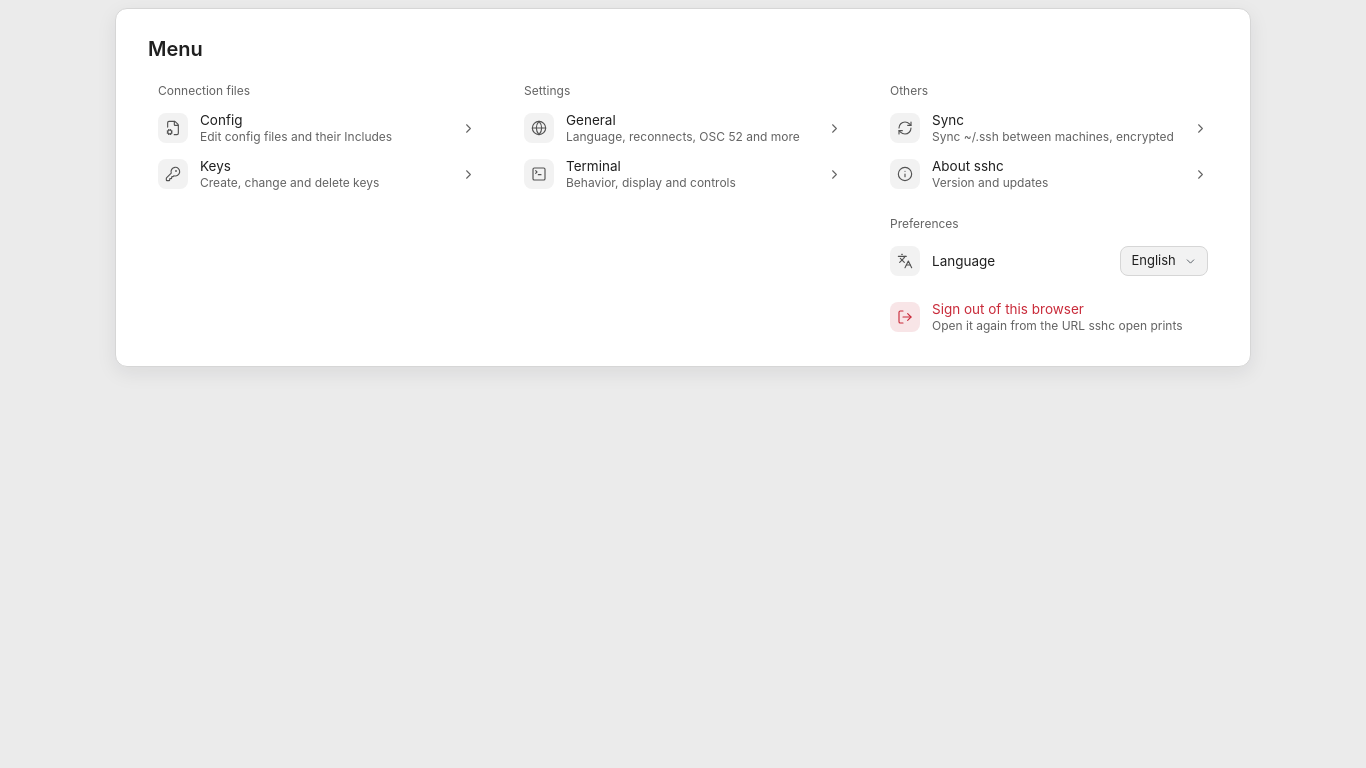
MenuPanel › shows why signing out failed and stays on the page
Click the button "Sign out of this browser" at (1049, 317), box [880,294,1218,340]
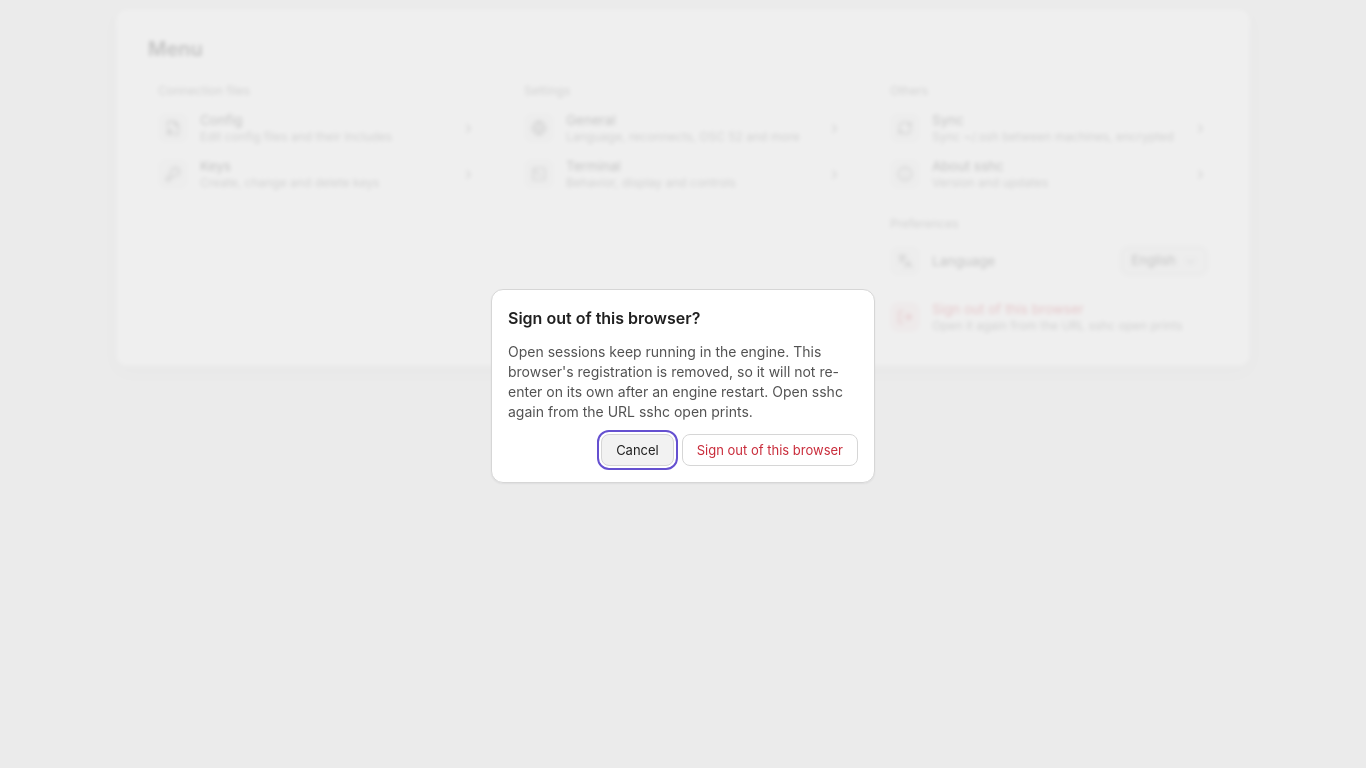
Click the button "Sign out of this browser" at (770, 450), box [682,434,858,466]
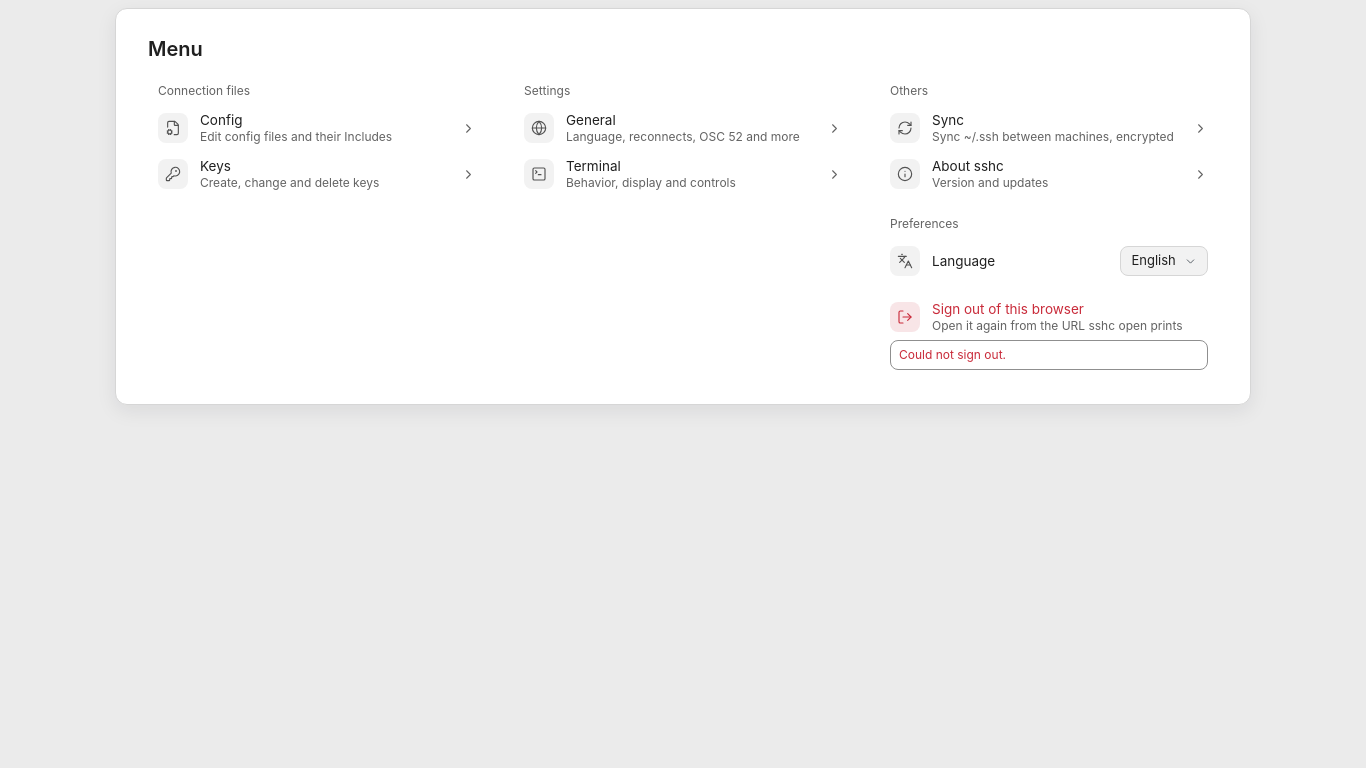
Expected: the message reads "Could not sign out.", [899,347,1006,362]
